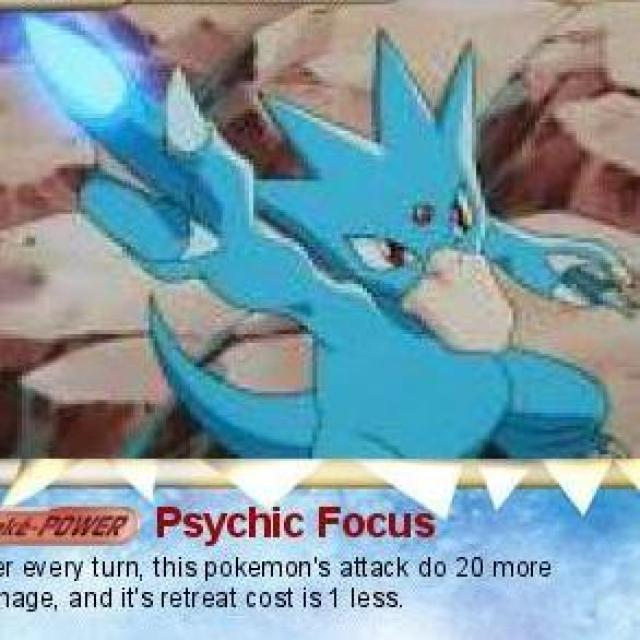Golduck: (151, 64, 607, 463)
